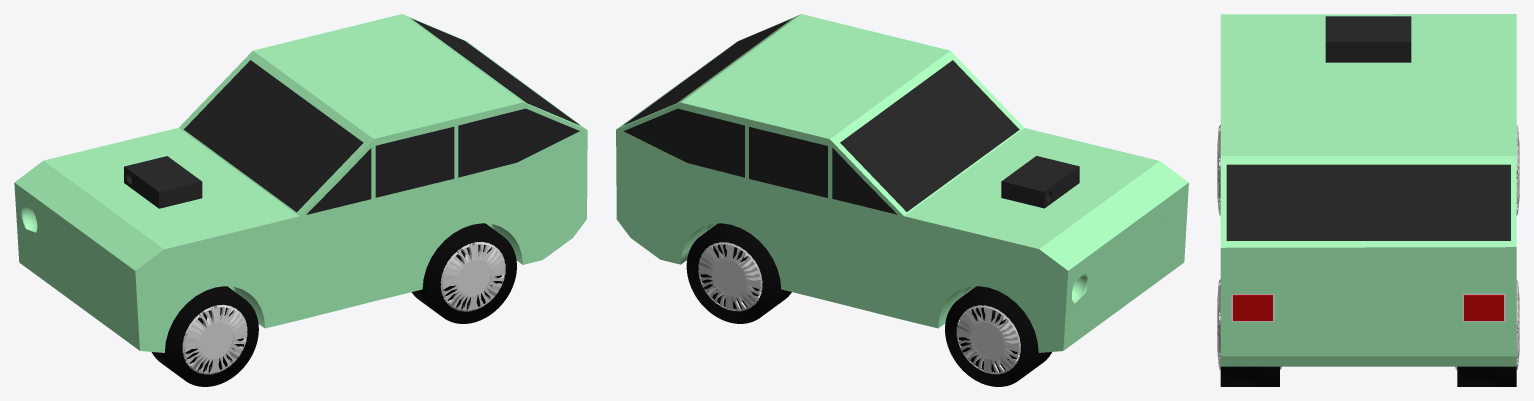
Rendered from carModel.obj.
3 renders of one model, left to right at view 1: azimuth 30°, elevation 25°; view 2: azimuth 150°, elevation 25°; view 3: azimuth 270°, elevation 25°, orthographic. The views are drawn at different scales.
Visible parts, largest first — view 1: Cube, Plane, Plane.004, Cylinder.004_Cylinder.007, Cylinder.001_Cylinder.004, Plane.003, Cube.001_Cube.002, Cylinder.003_Cylinder.006, Cylinder, Plane.001, Plane.002, Cylinder.002_Cylinder.005 (+1 smaller); view 2: Cube, Plane, Plane.007, Cylinder.007_Cylinder.010, Cylinder.010_Cylinder.013, Plane.006, Cube.001_Cube.002, Cylinder.006_Cylinder.009, Cylinder.009_Cylinder.012, Plane.001, Plane.005, Cylinder.008_Cylinder.011 (+1 smaller); view 3: Cube, Plane.001, Cube.001_Cube.002, Cylinder.007_Cylinder.010, Cylinder.004_Cylinder.007, Cube.004, Cube.005_Cube.007, Cylinder.006_Cylinder.009, Cylinder.003_Cylinder.006, Cylinder, Cylinder.009_Cylinder.012.
Boxes of the visible parts, x1,y1,x2,y2 form: Cube: (14, 14, 587, 352); Plane: (184, 60, 363, 212); Plane.004: (458, 108, 579, 177); Cylinder.004_Cylinder.007: (411, 223, 516, 323); Cylinder.001_Cylinder.004: (151, 286, 258, 386); Plane.003: (375, 126, 454, 197); Cube.001_Cube.002: (124, 156, 202, 208); Cylinder.003_Cylinder.006: (440, 242, 505, 311); Cylinder: (182, 304, 247, 374); Plane.001: (411, 18, 579, 125); Plane.002: (306, 148, 371, 214); Cylinder.002_Cylinder.005: (199, 322, 232, 358); Cube: (616, 14, 1188, 352); Plane: (840, 60, 1019, 211); Plane.007: (624, 108, 744, 177); Cylinder.007_Cylinder.010: (686, 223, 791, 323); Cylinder.010_Cylinder.013: (945, 286, 1051, 386); Plane.006: (749, 127, 827, 197); Cube.001_Cube.002: (1001, 156, 1079, 208); Cylinder.006_Cylinder.009: (698, 242, 762, 311); Cylinder.009_Cylinder.012: (956, 305, 1020, 374); Plane.001: (623, 19, 791, 125); Plane.005: (832, 148, 896, 214); Cylinder.008_Cylinder.011: (712, 258, 745, 295); Cube: (1220, 14, 1516, 366); Plane.001: (1226, 164, 1510, 240); Cube.001_Cube.002: (1325, 16, 1411, 62); Cylinder.007_Cylinder.010: (1457, 366, 1516, 386); Cylinder.004_Cylinder.007: (1220, 366, 1279, 386); Cube.004: (1233, 295, 1272, 320); Cube.005_Cube.007: (1464, 295, 1503, 320); Cylinder.006_Cylinder.009: (1455, 279, 1519, 370); Cylinder.003_Cylinder.006: (1217, 279, 1281, 370); Cylinder: (1217, 125, 1220, 216); Cylinder.009_Cylinder.012: (1516, 125, 1519, 215).
Size of the model in its own units: 25.94 by 11.4 by 12.26.
